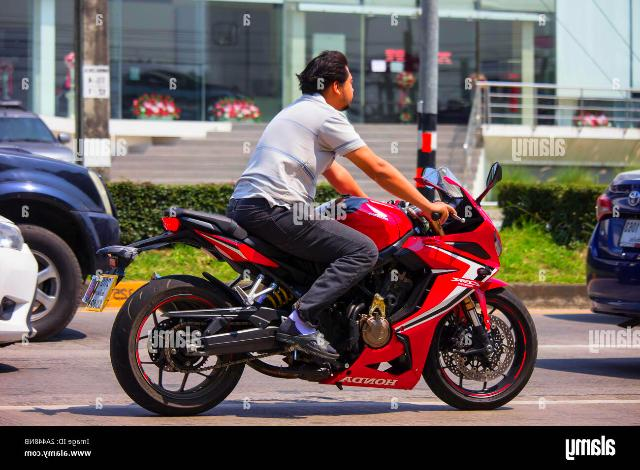motor: (111, 163, 538, 421)
non-helm: (298, 51, 355, 112)
